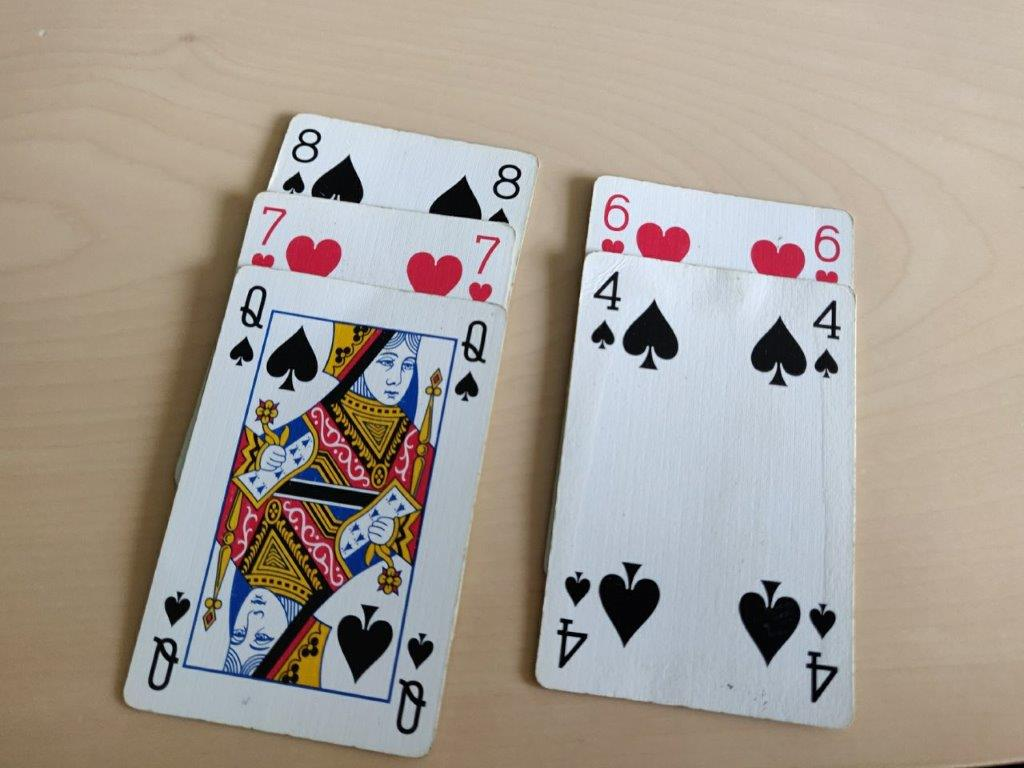4S: (587, 263, 623, 354), (807, 295, 843, 386)
6H: (597, 189, 634, 257), (809, 217, 846, 285)
7H: (465, 232, 505, 304), (248, 199, 288, 270)
8S: (279, 124, 324, 198), (480, 154, 525, 228)
QS: (221, 282, 267, 372), (449, 317, 495, 407)
